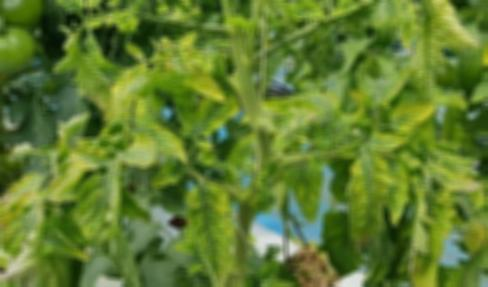Tomato leaf yellow virus: (181, 173, 238, 287), (342, 148, 397, 261), (0, 170, 51, 286), (407, 180, 461, 287), (61, 36, 130, 119), (78, 170, 126, 256), (283, 160, 325, 228), (181, 61, 229, 116), (136, 120, 195, 163), (419, 162, 488, 197), (385, 104, 448, 133), (118, 137, 161, 171), (67, 144, 101, 177)
